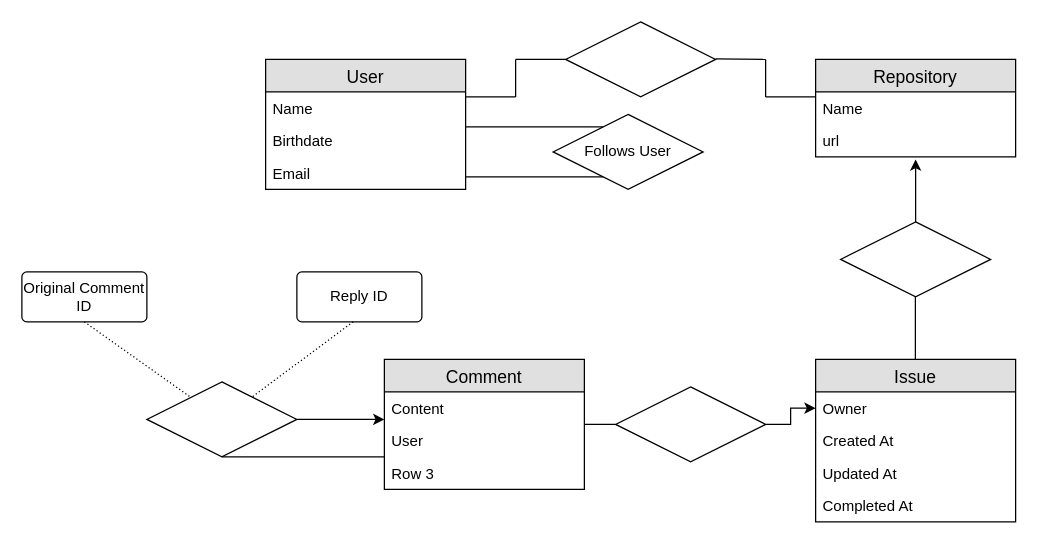
Image size: 1038x548. Some labels were removed from this diagram. The centre of each missing label's shape, as x and y in pixels:
Follows Repositories: the point at 640,59
Has Comments: the point at 690,424
Has Issues: the point at 915,259
Reply: the point at 221,419
